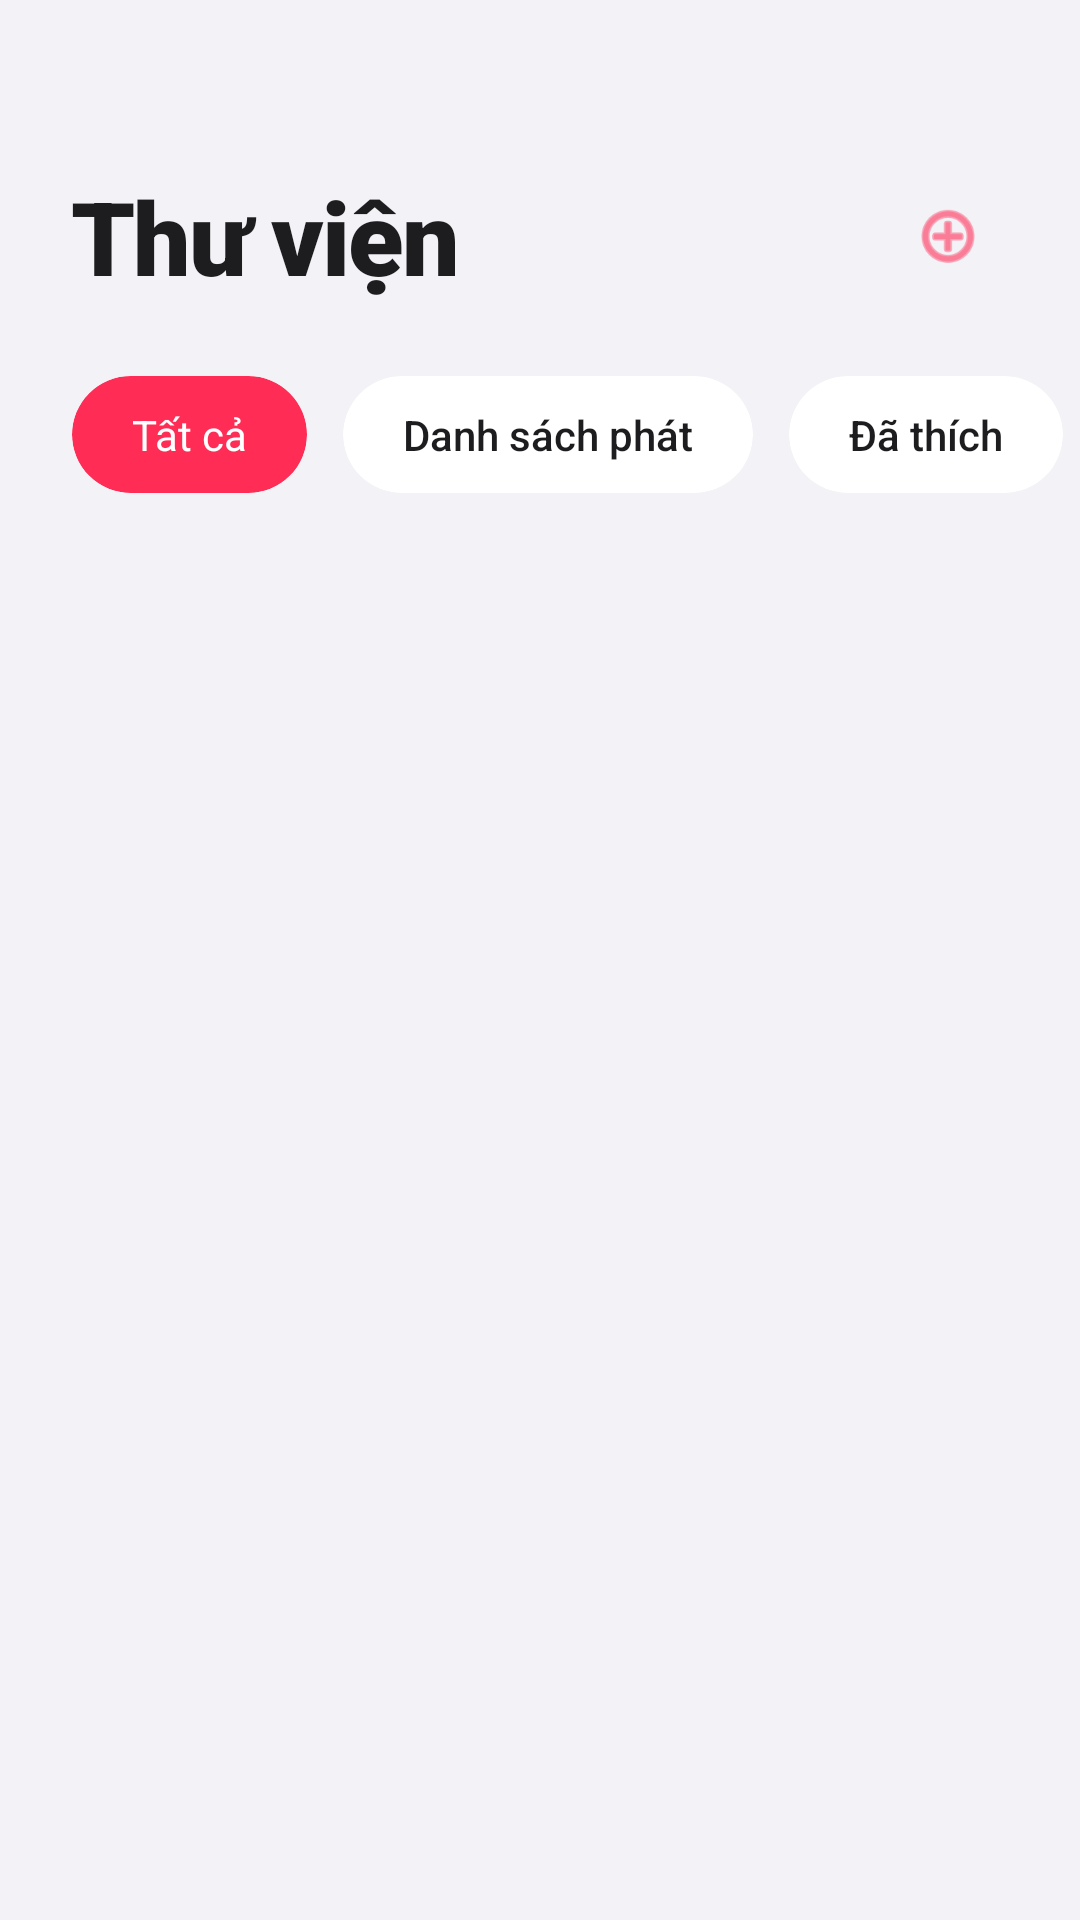

Icon click points for this 1080x1920 phone screenshot, format [x,y]:
add: [948,236]
